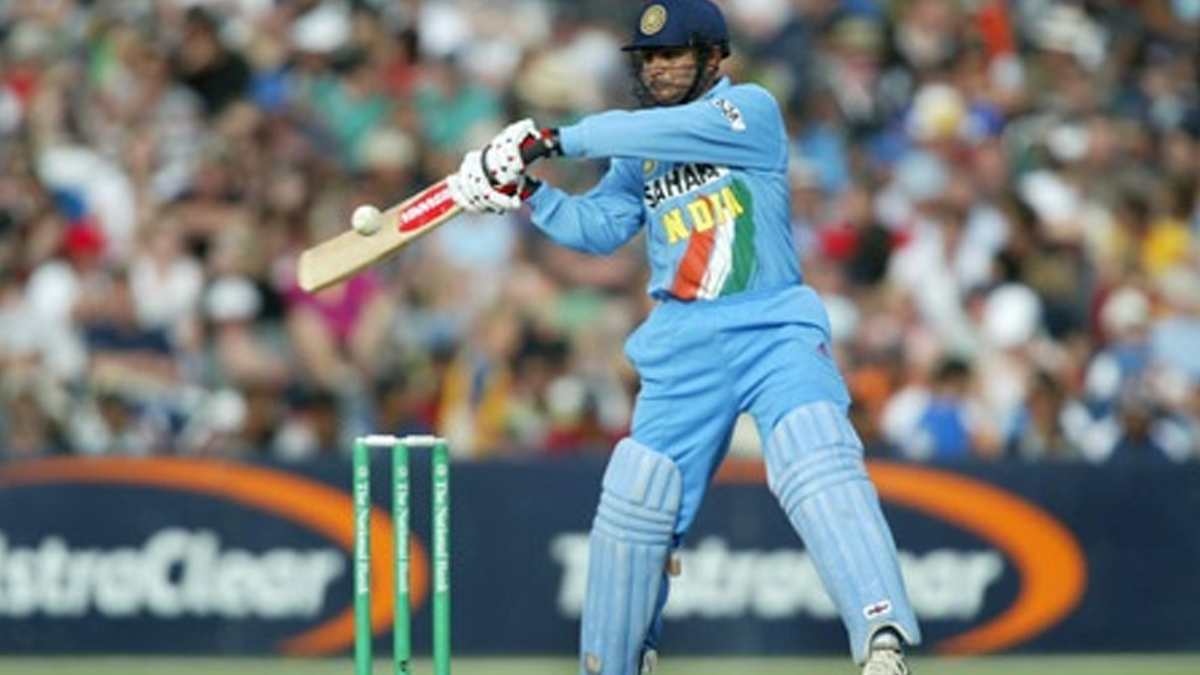Cutshot: (210, 0, 1057, 675)
